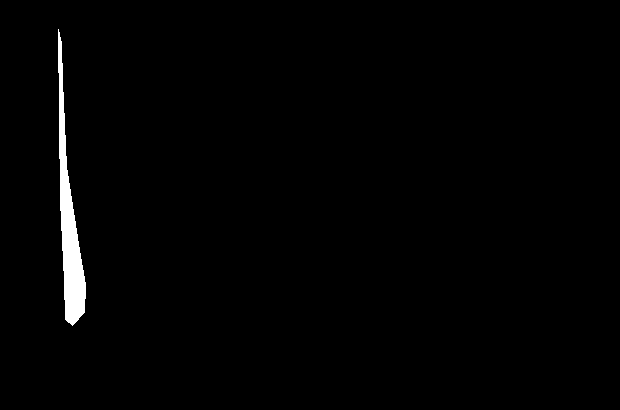type5: (55, 28, 93, 330)
